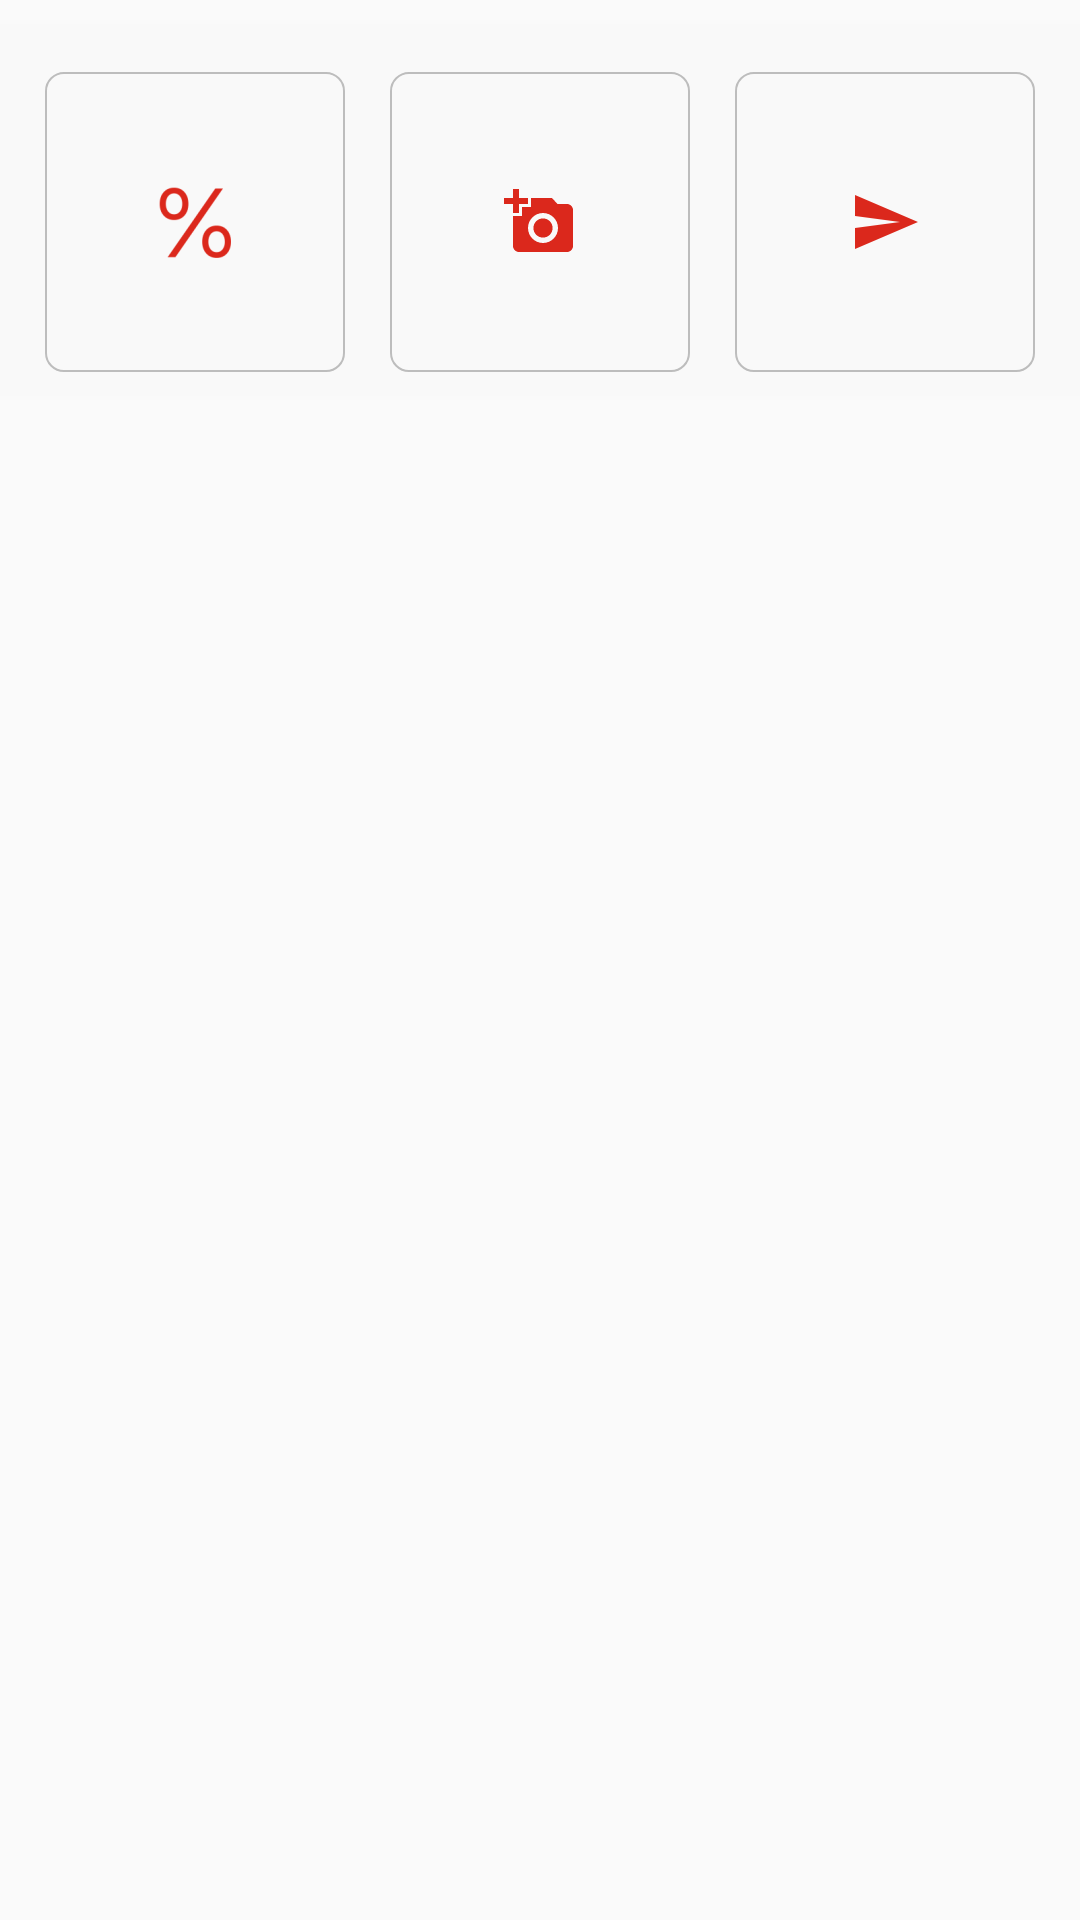

Where icons sit on this 1080w x 1920h app screen, as region(x1, y1, x2, y2):
add photo: region(390, 72, 690, 372)
percent: region(45, 72, 345, 372)
send: region(735, 72, 1035, 372)
